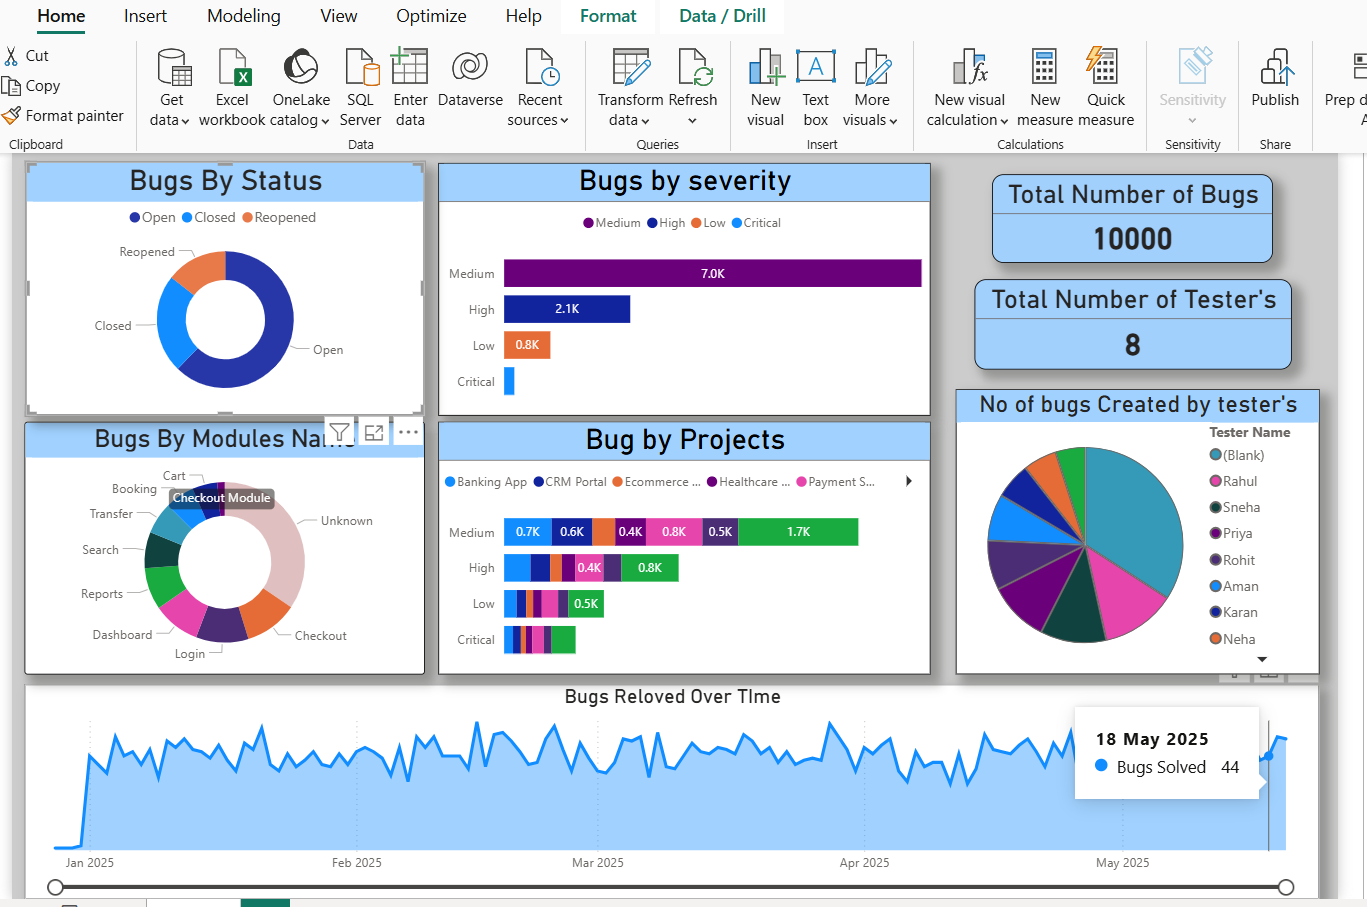

Layout of this report page (visuals, bound fields, positions):
{"tool":"powerbi","page":{"name":"Bug_report","canvas":[1280,720],"ordinal":0},"visuals":[{"type":"card","title":"Total Number of Bugs","fields":{"Values":["Count(bugreport_cleaned.bug_pk)"]},"box":[945.8,20.5,271.4,85.7],"z":0},{"type":"donutChart","title":"Bugs By Status","fields":{"Category":["bugreport_cleaned.status"],"Y":["Count(bugreport_cleaned.bug_pk)"]},"box":[13.3,8.4,384.9,244.9],"z":1000},{"type":"lineChart","title":"Bugs Reloved Over TIme","fields":{"Y":["Count(bugreport_cleaned.bug_pk)"],"Category":["bugreport_cleaned.resolved_date"]},"box":[12.1,512.7,1249.9,207.5],"z":2000},{"type":"pieChart","title":"Bugs By  Modules Name","fields":{"Category":["bugreport_cleaned.module_name"],"Y":["Count(bugreport_cleaned.bug_pk)"]},"box":[12.1,259.4,386.1,243.7],"z":3000},{"type":"barChart","title":"Bugs by severity","fields":{"Y":["Count(bugreport_cleaned.bug_pk)"],"Category":["bugreport_cleaned.severity"],"Series":["bugreport_cleaned.severity"]},"box":[411.4,9.7,475.3,243.7],"z":4000},{"type":"barChart","title":"Bug by Projects","fields":{"Y":["Count(bugreport_cleaned.bug_pk)"],"Category":["bugreport_cleaned.priority"],"Series":["bugreport_cleaned.project_name"]},"box":[411.4,259.4,475.3,243.7],"z":5000},{"type":"card","title":"Total Number of Tester''s","fields":{"Values":["Count(testers.tester_name)"]},"box":[929,121.9,306.4,86.9],"z":6000},{"type":"pieChart","title":"No of bugs Created by tester''s","fields":{"Series":["testers.tester_name"],"Y":["Count(bugreport_cleaned.bug_pk)"],"Category":["testers.tester_name"]},"box":[910.9,228,351.1,275.1],"z":7000}]}

Visuals, with their boxes in screenshot pixels (x1, y1, x2, y2):
"Total Number of Bugs" card: x1=971, y1=174, x2=1247, y2=261
"Bugs By Status" donutChart: x1=24, y1=162, x2=415, y2=410
"Bugs Reloved Over TIme" lineChart: x1=23, y1=674, x2=1293, y2=885
"Bugs By  Modules Name" pieChart: x1=23, y1=417, x2=415, y2=664
"Bugs by severity" barChart: x1=429, y1=163, x2=911, y2=411
"Bug by Projects" barChart: x1=429, y1=417, x2=911, y2=664
"Total Number of Tester''s" card: x1=954, y1=277, x2=1266, y2=365
"No of bugs Created by tester''s" pieChart: x1=936, y1=385, x2=1293, y2=664
